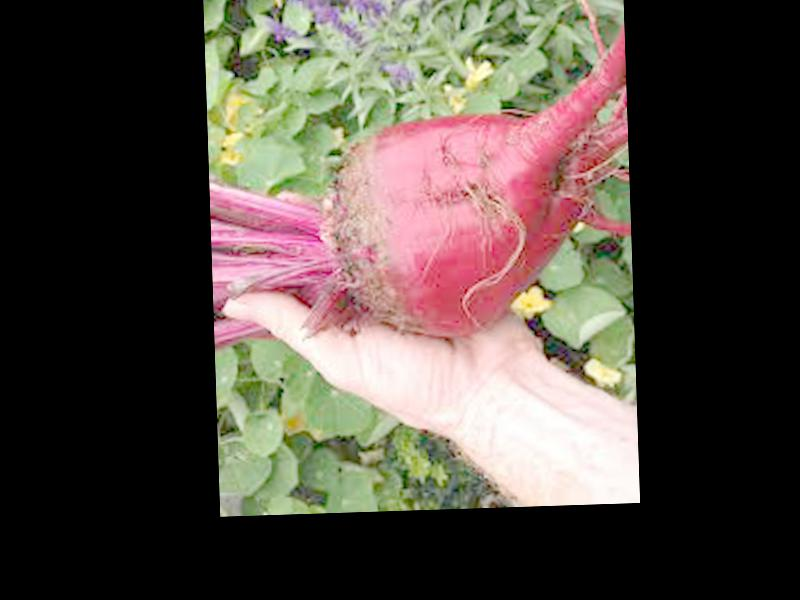Beet: (207, 32, 634, 345)
